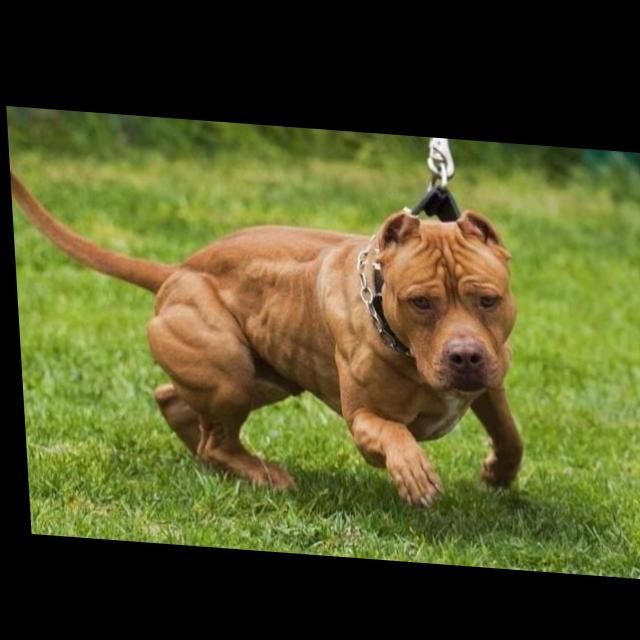am_pit_bull_terrier: (8, 144, 525, 510)
